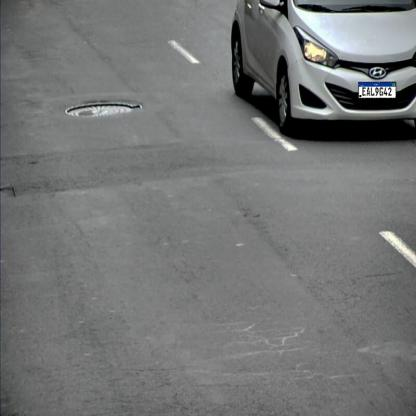PlacaM: (359, 82, 396, 98)
